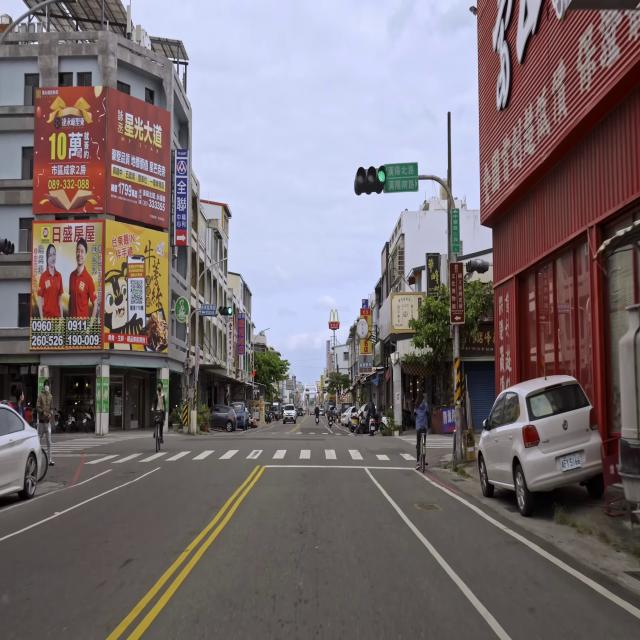green light: (354, 168, 387, 190), (219, 306, 233, 316)
